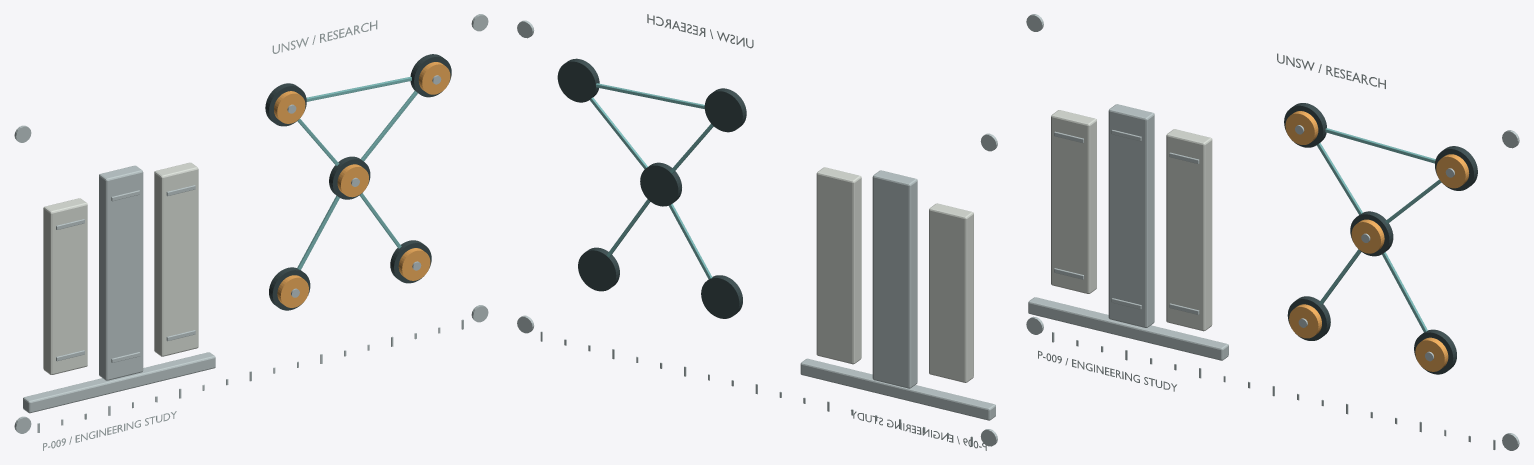
The model's file is unsw.glb.
3 renders of one model, left to right at view 1: azimuth 30°, elevation 25°; view 2: azimuth 150°, elevation 25°; view 3: azimuth 330°, elevation 25°, orthographic. The views are drawn at different scales.
Visible parts, largest first — view 1: optical-core__Project_Ceramic.011, optical-core__Project_Silver.009, optical-core__Project_Amber.009, optical-core__Project_Graphite.010, optical-lenses__Project_Silver.011, optical-lenses__Project_Trace.010; view 2: optical-core__Project_Ceramic.011, optical-core__Project_Silver.009, optical-core__Project_Graphite.010, optical-lenses__Project_Silver.011, optical-lenses__Project_Trace.010; view 3: optical-core__Project_Ceramic.011, optical-core__Project_Silver.009, optical-core__Project_Amber.009, optical-core__Project_Graphite.010, optical-lenses__Project_Silver.011, optical-lenses__Project_Trace.010.
Part boxes in pixels (box(x1,y1,x2,y2)): optical-core__Project_Ceramic.011: box(43, 162, 198, 374); optical-core__Project_Silver.009: box(23, 75, 441, 413); optical-core__Project_Amber.009: box(274, 62, 450, 307); optical-core__Project_Graphite.010: box(265, 54, 451, 310); optical-lenses__Project_Silver.011: box(14, 14, 488, 450); optical-lenses__Project_Trace.010: box(297, 76, 417, 269); optical-core__Project_Ceramic.011: box(816, 167, 973, 382); optical-core__Project_Silver.009: box(800, 170, 995, 420); optical-core__Project_Graphite.010: box(557, 58, 746, 318); optical-lenses__Project_Silver.011: box(517, 14, 997, 450); optical-lenses__Project_Trace.010: box(590, 83, 713, 279); optical-core__Project_Ceramic.011: box(1051, 110, 1212, 331); optical-core__Project_Silver.009: box(1028, 104, 1454, 361); optical-core__Project_Amber.009: box(1285, 111, 1469, 371); optical-core__Project_Graphite.010: box(1284, 103, 1477, 374); optical-lenses__Project_Silver.011: box(1026, 14, 1519, 450); optical-lenses__Project_Trace.010: box(1316, 128, 1441, 332).
Bounding box in the file's own units: 4.01 × 2.83 × 0.1487.
